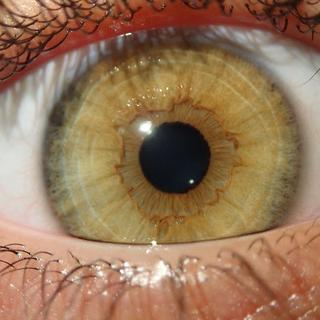pupil: (141, 123, 211, 192)
